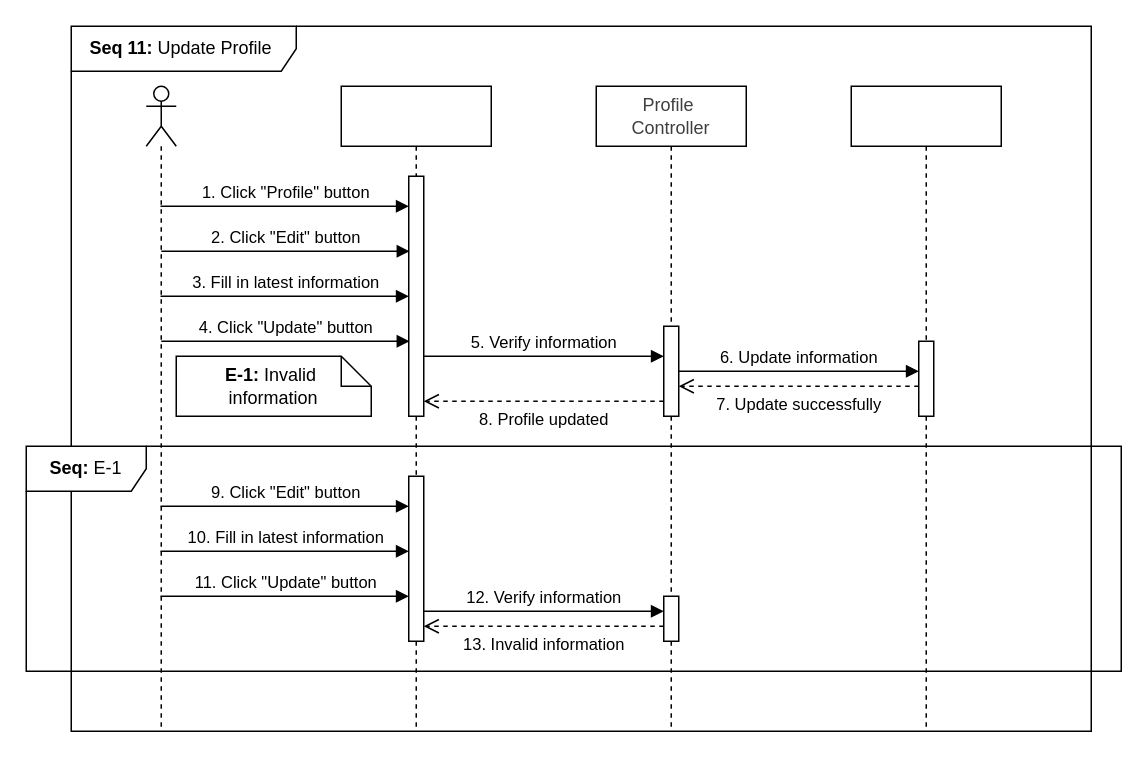
Image size: 1148x758. Some labels were removed from this diagram. The centre of each missing label's shape, as x and y in pixels:
Profile Page: point 415,408
User Database: point 925,408
